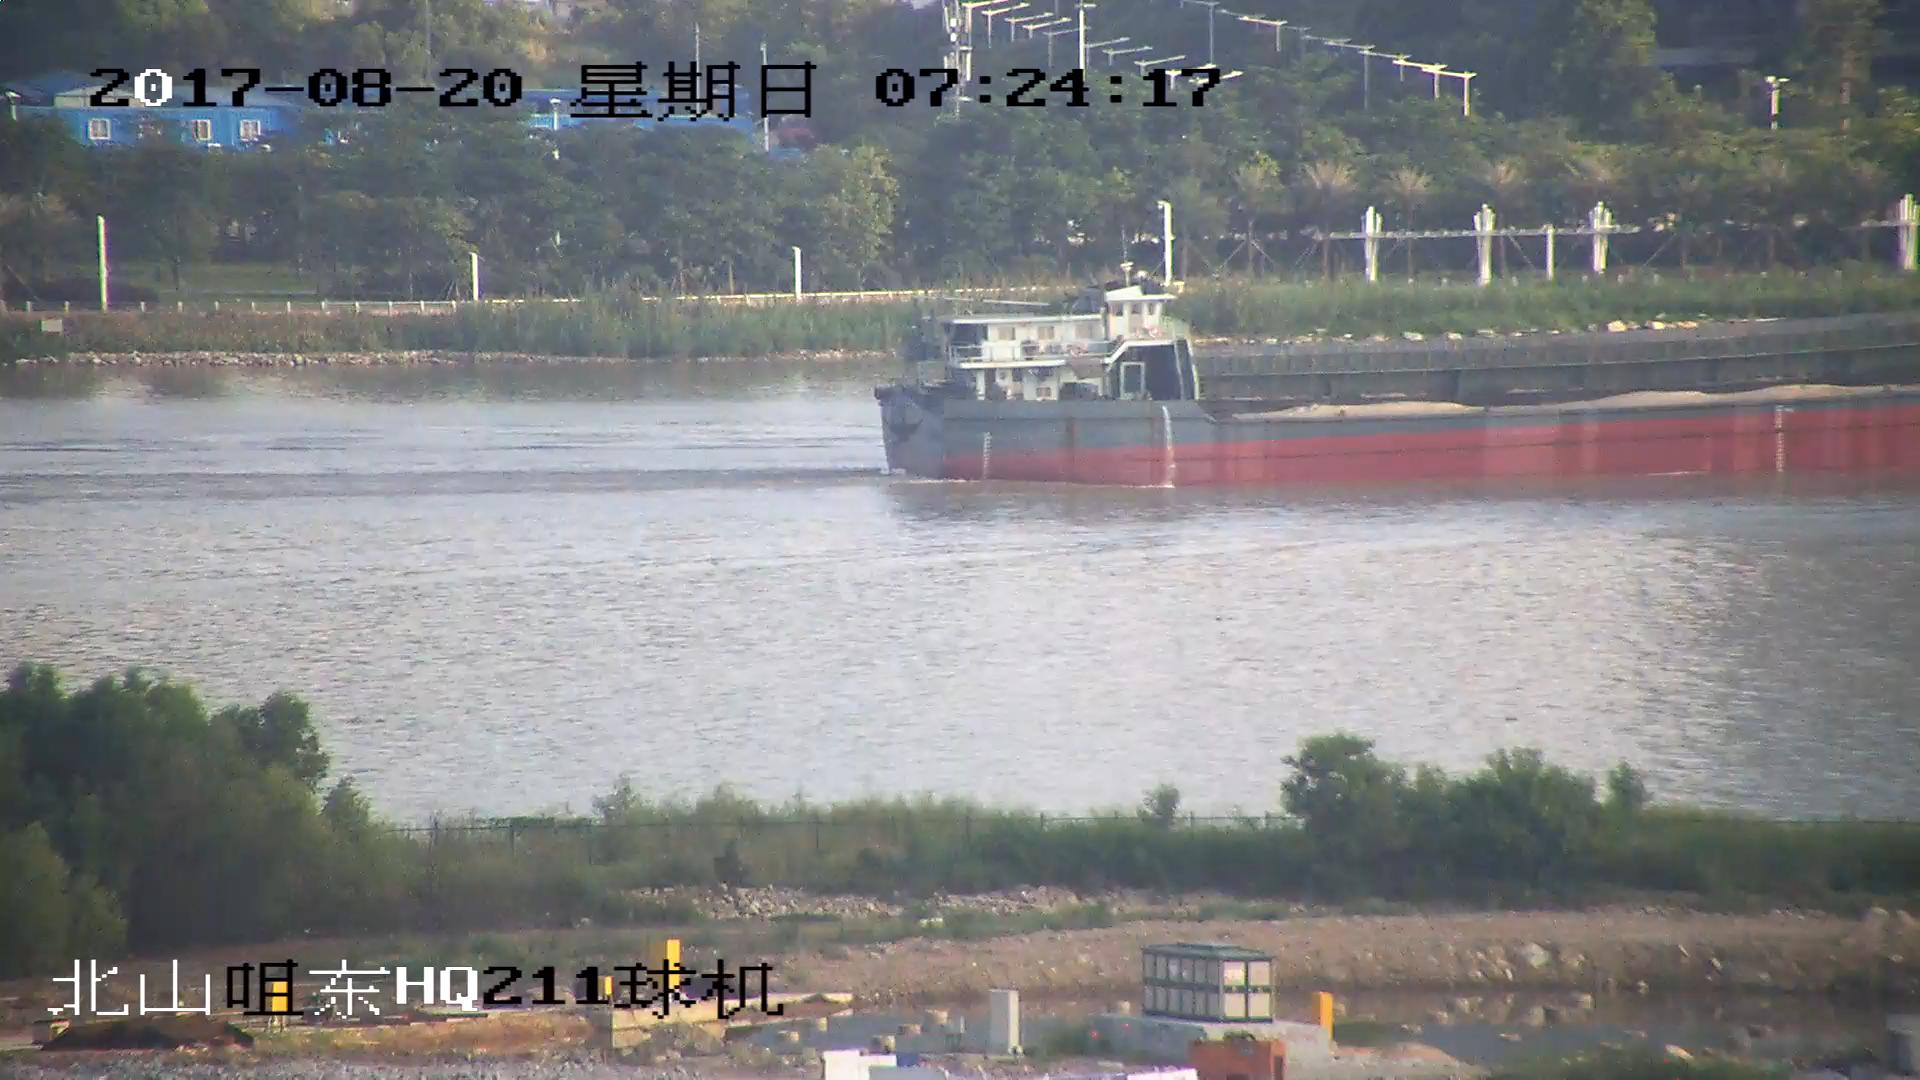bulk cargo carrier: (870, 276, 1920, 486)
